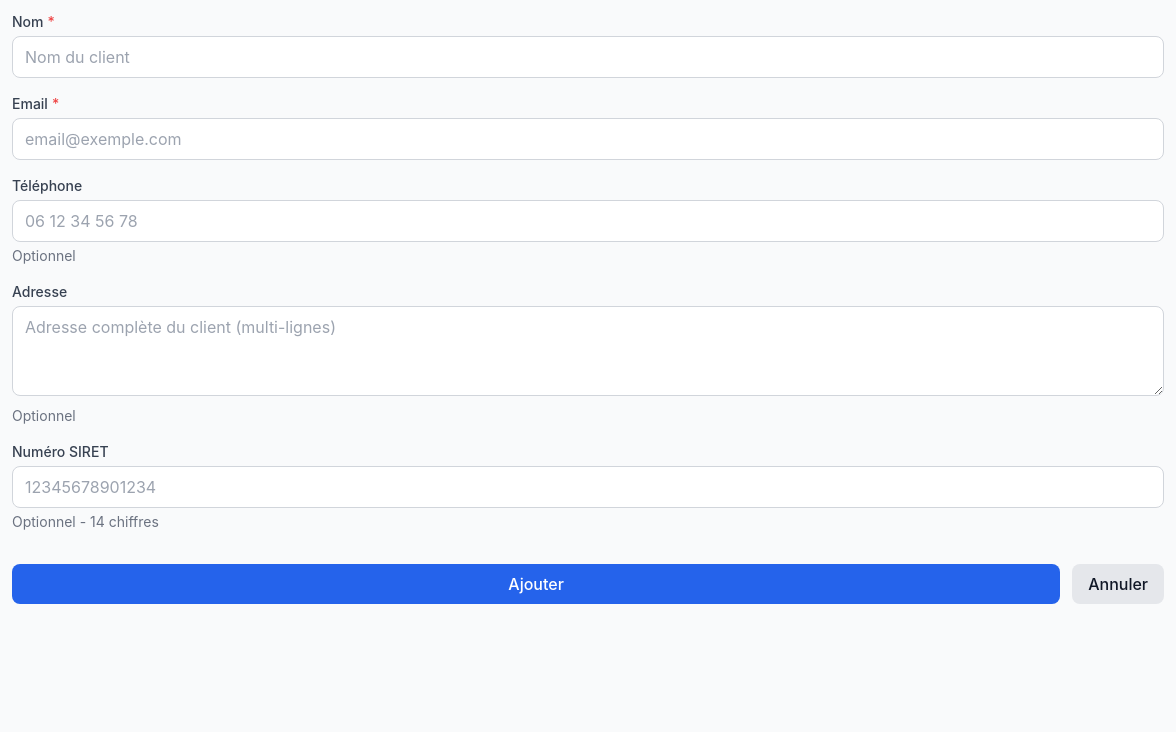
ClientForm › shows validation error for invalid email format
Type "Test Client" into the field with placeholder "Nom du client" at (588,57), box [12,36,1164,78]
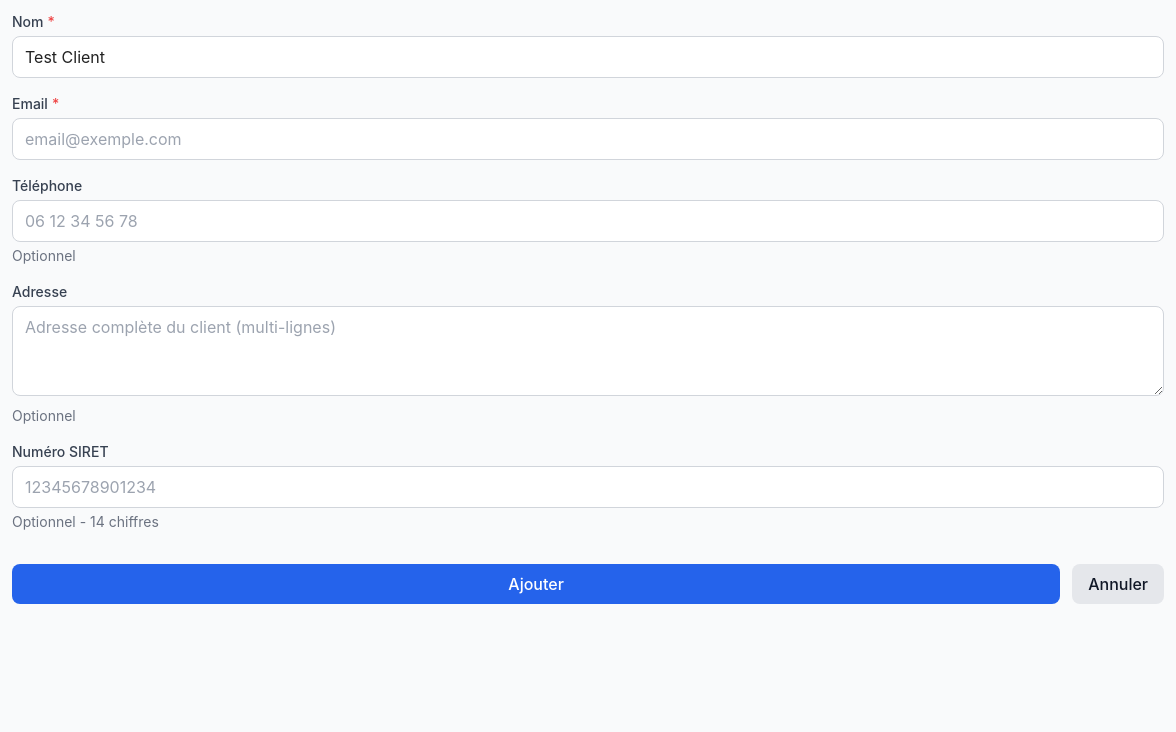
Type "test@localhost" into the field with placeholder "email@exemple.com" at (588,139), box [12,118,1164,160]
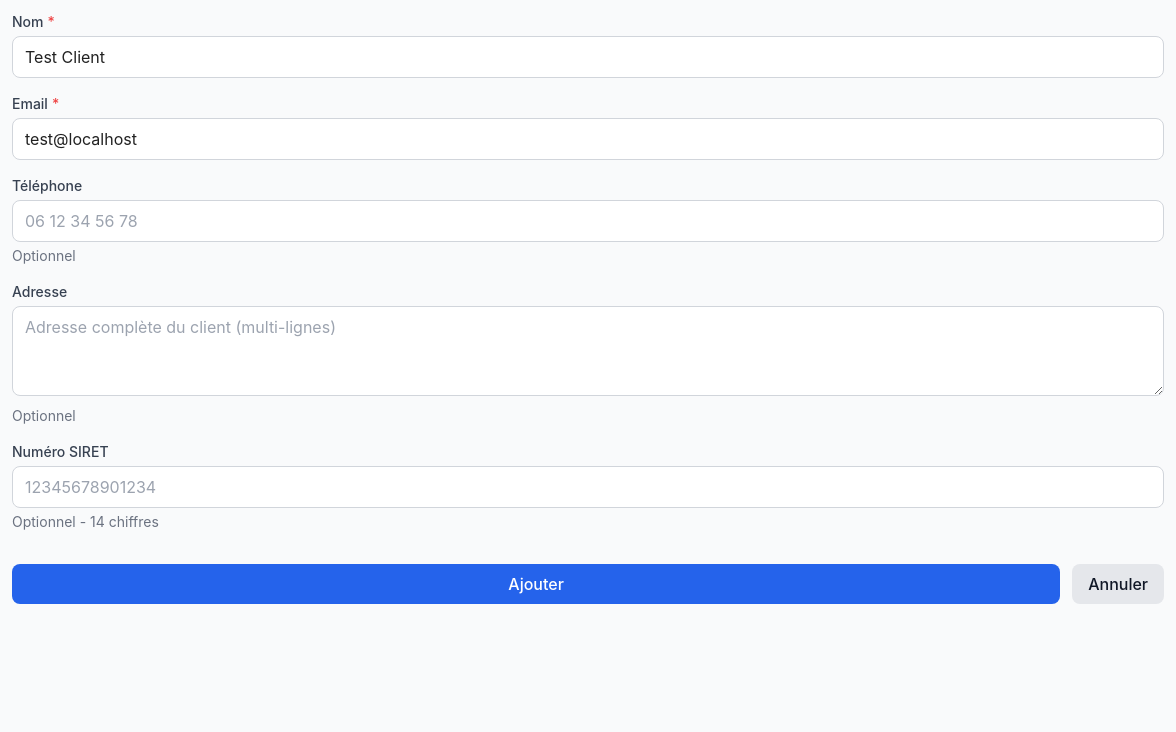
Submit the form named "Ajouter"
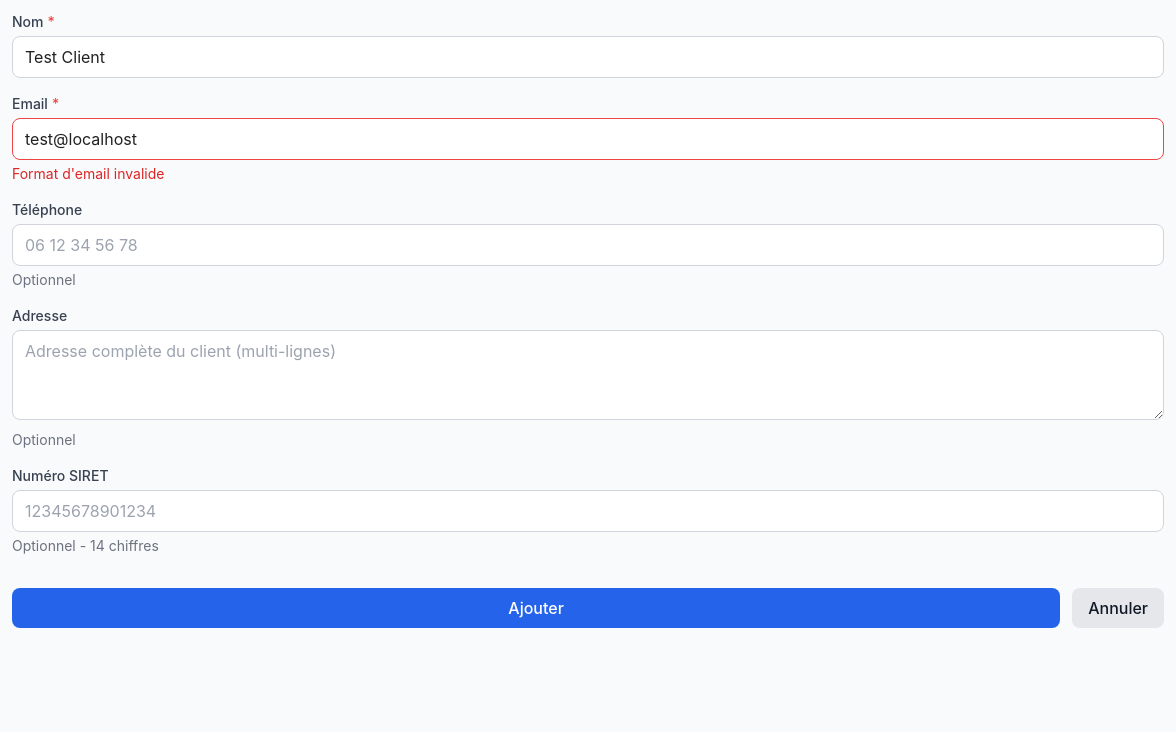
Now the text "Format d'email invalide" is shown, box [12,165,164,182]
